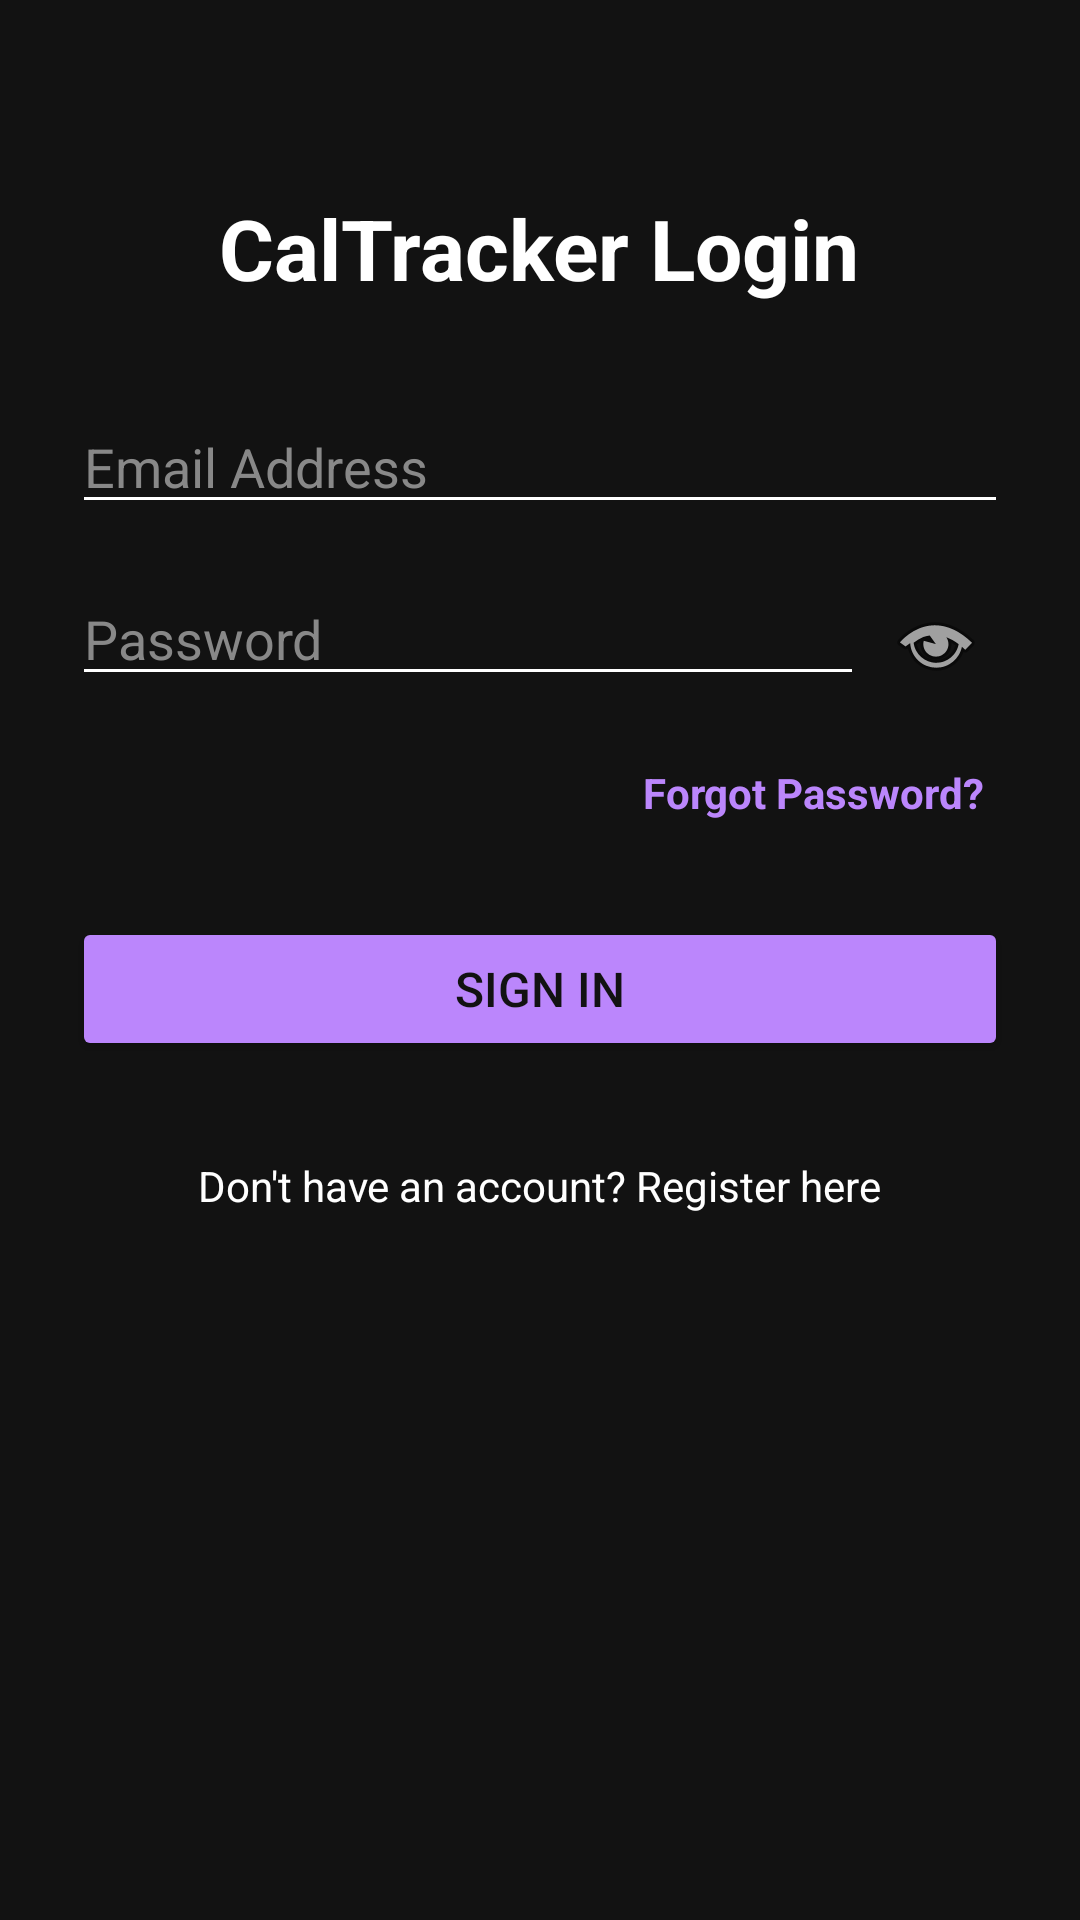

Icon bounding boxes for this 1080 x 1920 phone screenshot, format (x1, y1, x2, y2):
Toggle Visibility: (900, 625, 972, 668)
